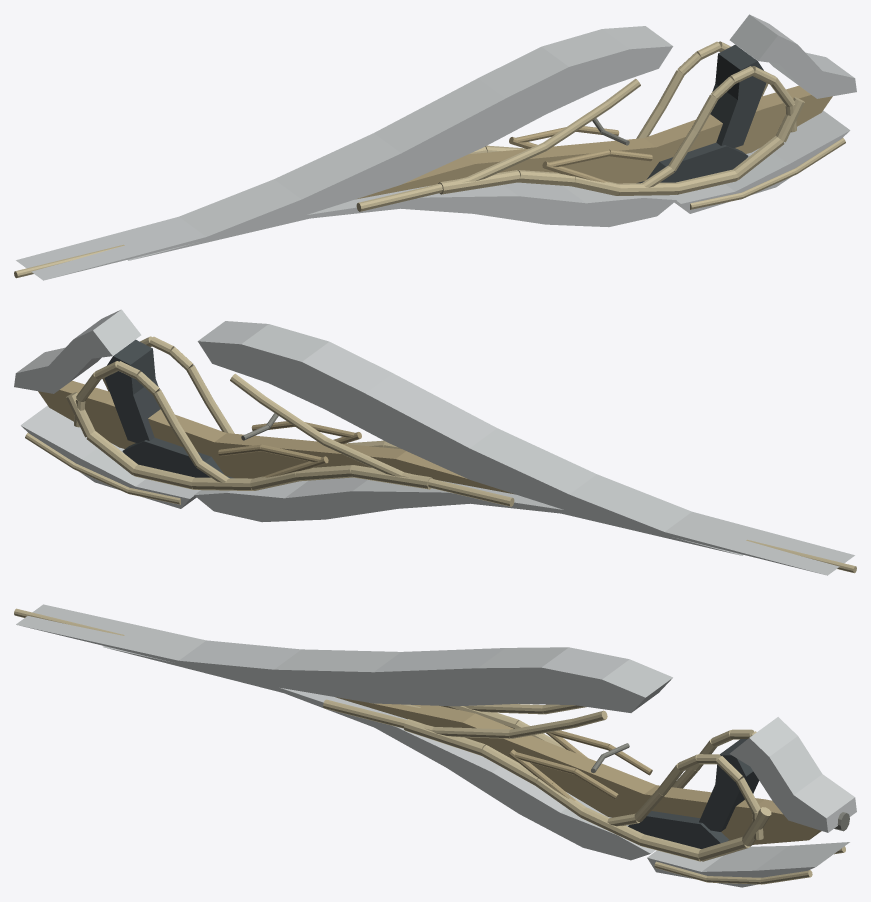
The model's file is ruch_white_off.glb.
The picture shows the model from 3 angles, top to bottom: view 1: azimuth 30°, elevation 25°; view 2: azimuth 150°, elevation 25°; view 3: azimuth 330°, elevation 25°; orthographic projection.
Parts seen in each view (by area): view 1: upper_blade_0, spine_3, lower_blade_1, gold_frame_8, rear_fairing_6, aft_lower_7, cockpit_arch_9, seat_back_5, seat_base_4, structural_braces_10, rear_rail_11; view 2: upper_blade_0, spine_3, lower_blade_1, gold_frame_8, rear_fairing_6, aft_lower_7, cockpit_arch_9, seat_back_5, seat_base_4, structural_braces_10, rear_rail_11; view 3: upper_blade_0, spine_3, gold_frame_8, lower_blade_1, rear_fairing_6, aft_lower_7, cockpit_arch_9, seat_back_5, structural_braces_10, seat_base_4, rear_rail_11.
Part boxes in pixels (bbox=[...]): upper_blade_0: bbox=[16, 26, 673, 280]; spine_3: bbox=[356, 85, 832, 199]; lower_blade_1: bbox=[127, 182, 676, 260]; gold_frame_8: bbox=[356, 78, 804, 211]; rear_fairing_6: bbox=[729, 14, 856, 98]; aft_lower_7: bbox=[670, 110, 850, 213]; cockpit_arch_9: bbox=[636, 41, 796, 187]; seat_back_5: bbox=[710, 44, 766, 148]; seat_base_4: bbox=[636, 142, 748, 183]; structural_braces_10: bbox=[509, 126, 652, 182]; rear_rail_11: bbox=[690, 138, 845, 209]; upper_blade_0: bbox=[197, 321, 854, 575]; spine_3: bbox=[38, 380, 514, 494]; lower_blade_1: bbox=[194, 477, 743, 555]; gold_frame_8: bbox=[66, 373, 514, 506]; rear_fairing_6: bbox=[14, 309, 141, 393]; aft_lower_7: bbox=[20, 405, 200, 508]; cockpit_arch_9: bbox=[74, 336, 234, 482]; seat_back_5: bbox=[104, 339, 160, 443]; seat_base_4: bbox=[122, 437, 234, 478]; structural_braces_10: bbox=[218, 421, 361, 477]; rear_rail_11: bbox=[25, 433, 180, 504]; upper_blade_0: bbox=[16, 604, 672, 712]; spine_3: bbox=[335, 697, 821, 844]; gold_frame_8: bbox=[323, 699, 771, 861]; lower_blade_1: bbox=[103, 646, 655, 860]; rear_fairing_6: bbox=[729, 717, 856, 832]; aft_lower_7: bbox=[647, 842, 849, 887]; cockpit_arch_9: bbox=[607, 729, 763, 839]; seat_back_5: bbox=[699, 739, 759, 831]; structural_braces_10: bbox=[509, 730, 652, 800]; seat_base_4: bbox=[628, 811, 728, 848]; rear_rail_11: bbox=[654, 846, 845, 884].
Size of the model in its own units: 9.15 by 1.86 by 0.76.
